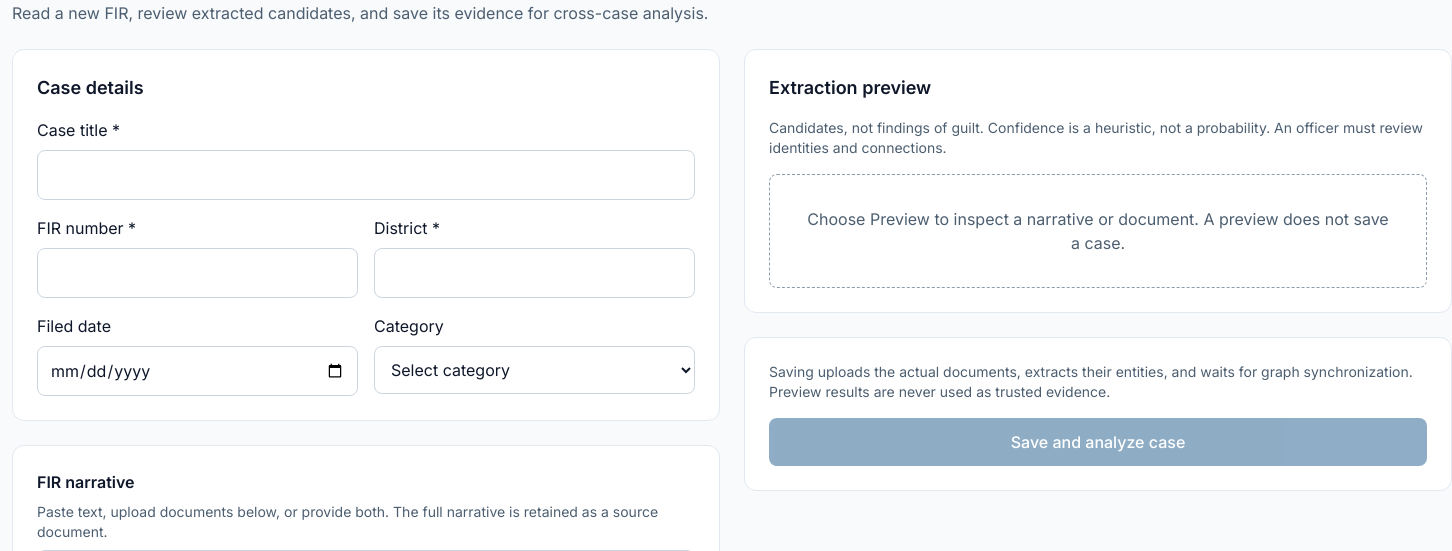
processing failure retries the acknowledged document without duplicate case or upload
Type "New FIR" into the field labelled "Case title *" at [366, 175], box [37, 150, 695, 200]
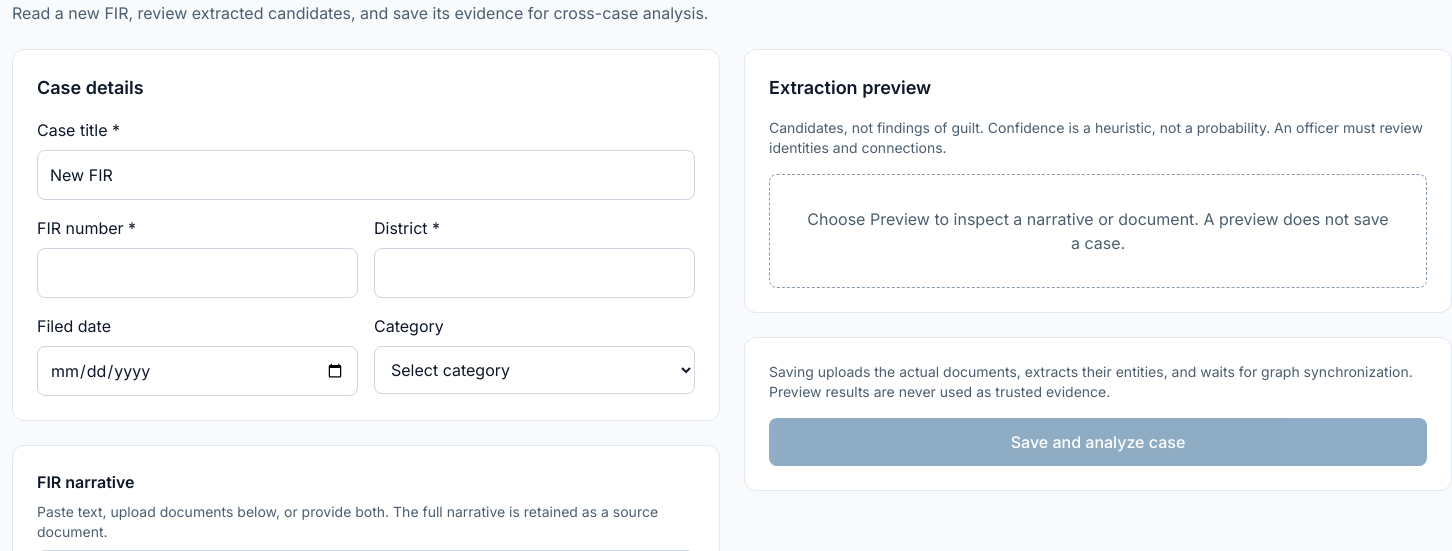
Type "FIR-NEW-1" into the field labelled "FIR number *" at [198, 273], box [37, 248, 358, 298]
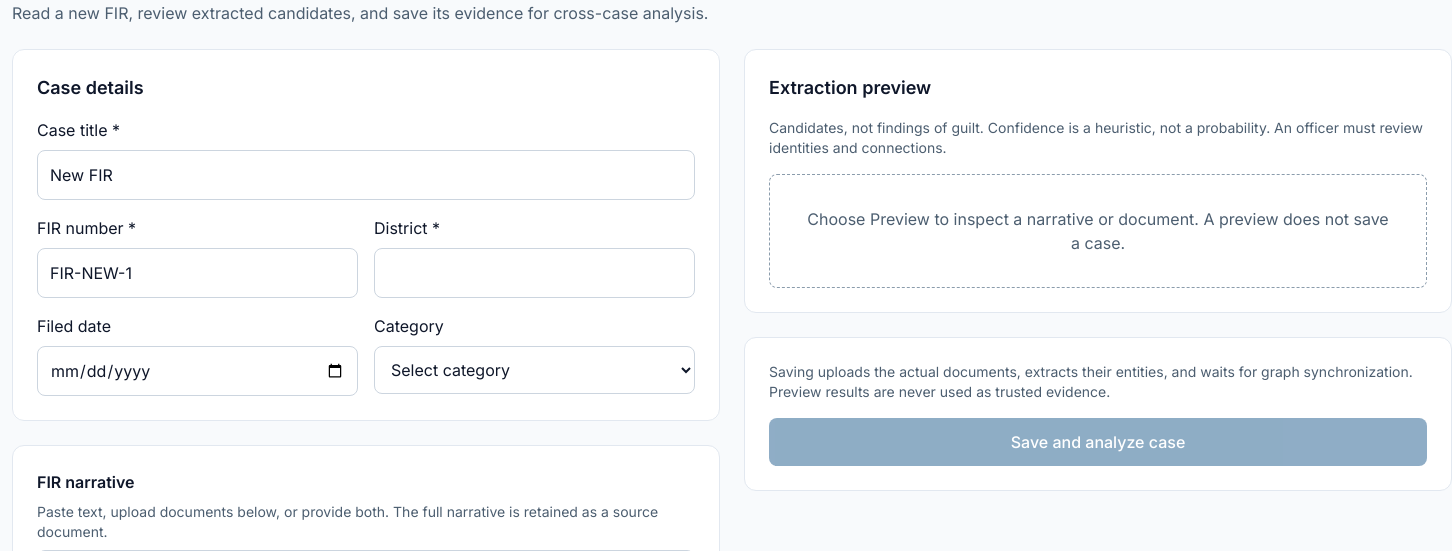
Type "Lucknow" into the field labelled "District *" at [534, 273], box [374, 248, 695, 298]
(page scrolled)
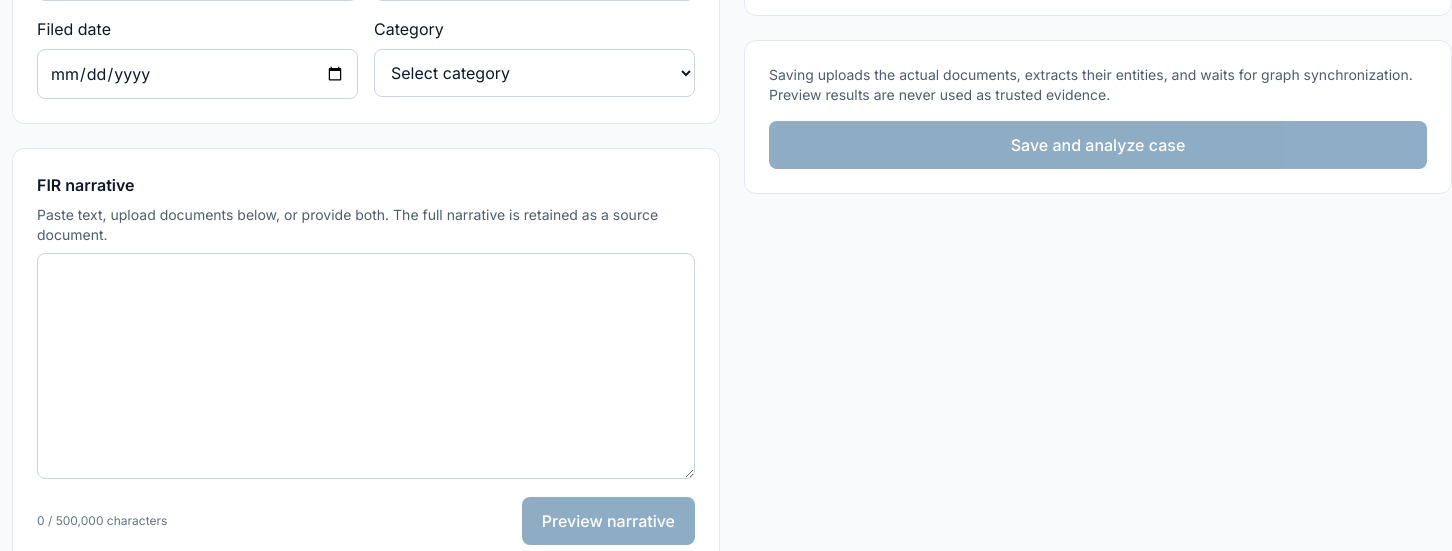
Type "Phone: 9123456789" into the text box labelled "FIR narrative" at [366, 366], box [37, 253, 695, 479]
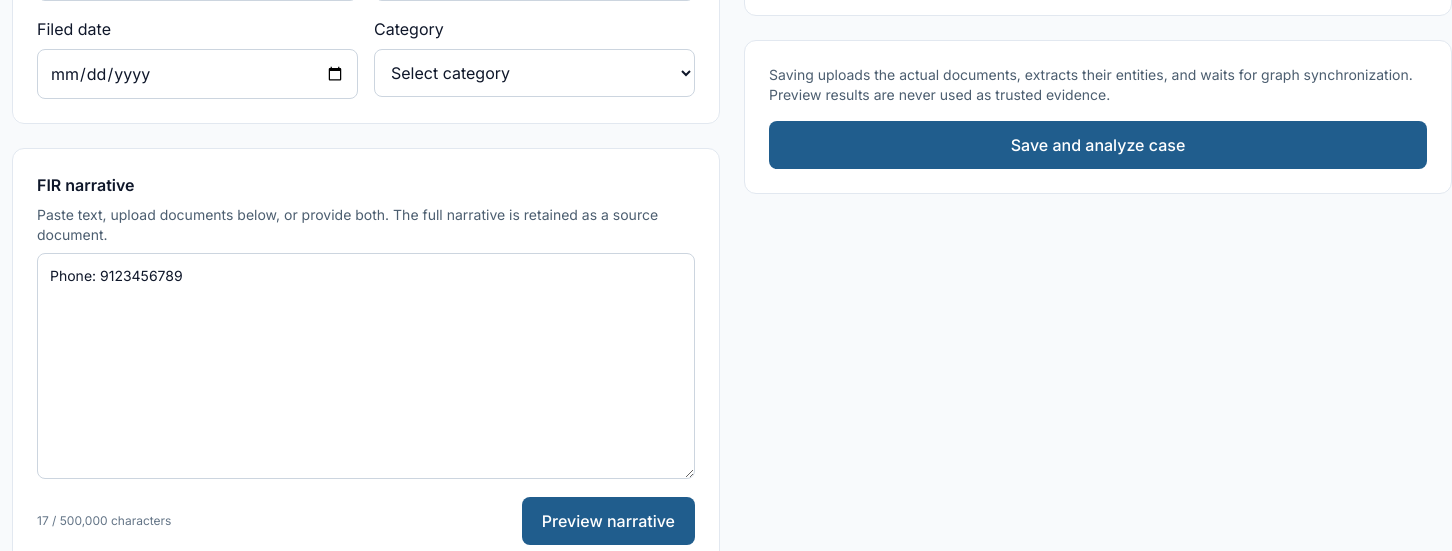
Click the button "Save and analyze case" at [1098, 145], box [769, 121, 1427, 169]
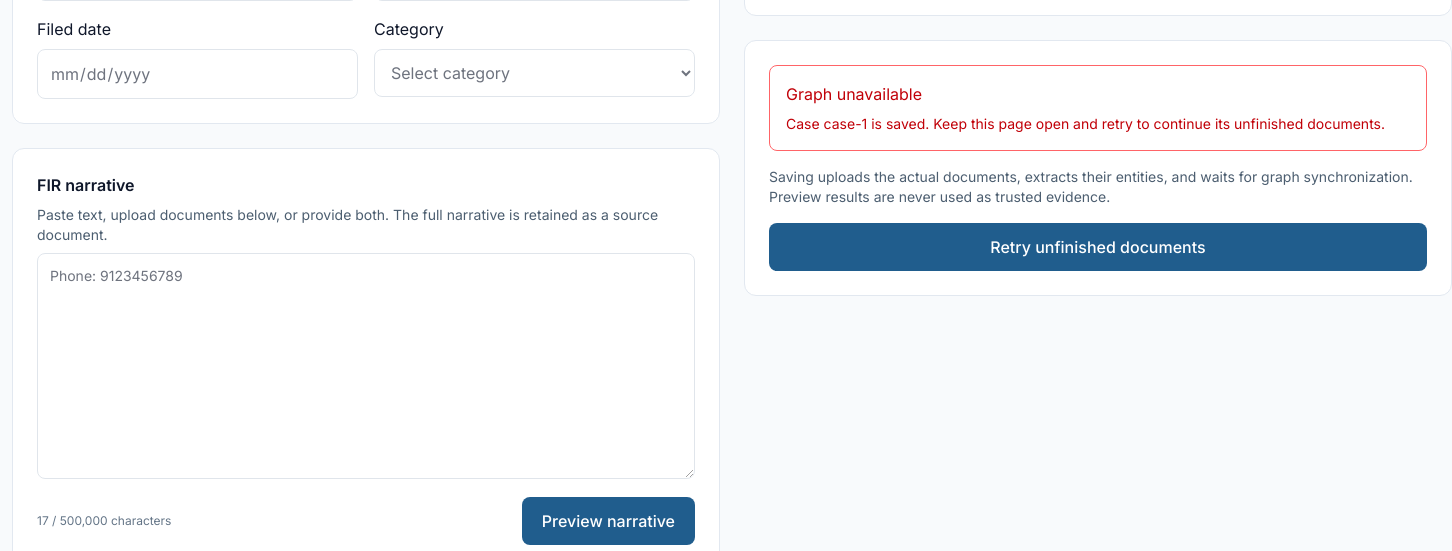
expect the text "Case saved and processed" is not shown: met
expect the message shows "Graph unavailable": met, box [786, 84, 922, 104]
expect the text box labelled "FIR narrative" is disabled: met, box [37, 253, 695, 479]
Click the button "Retry unfinished documents" at [1098, 247], box [769, 223, 1427, 271]
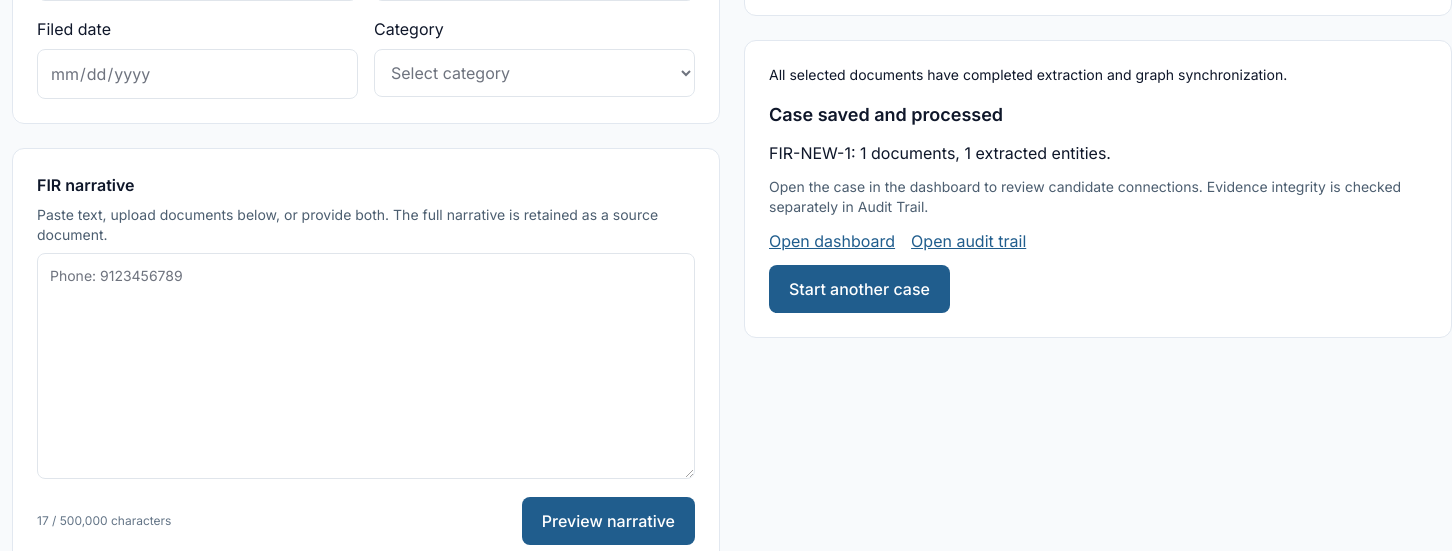
expect the heading "Case saved and processed" is shown: met, box [769, 104, 1003, 125]
